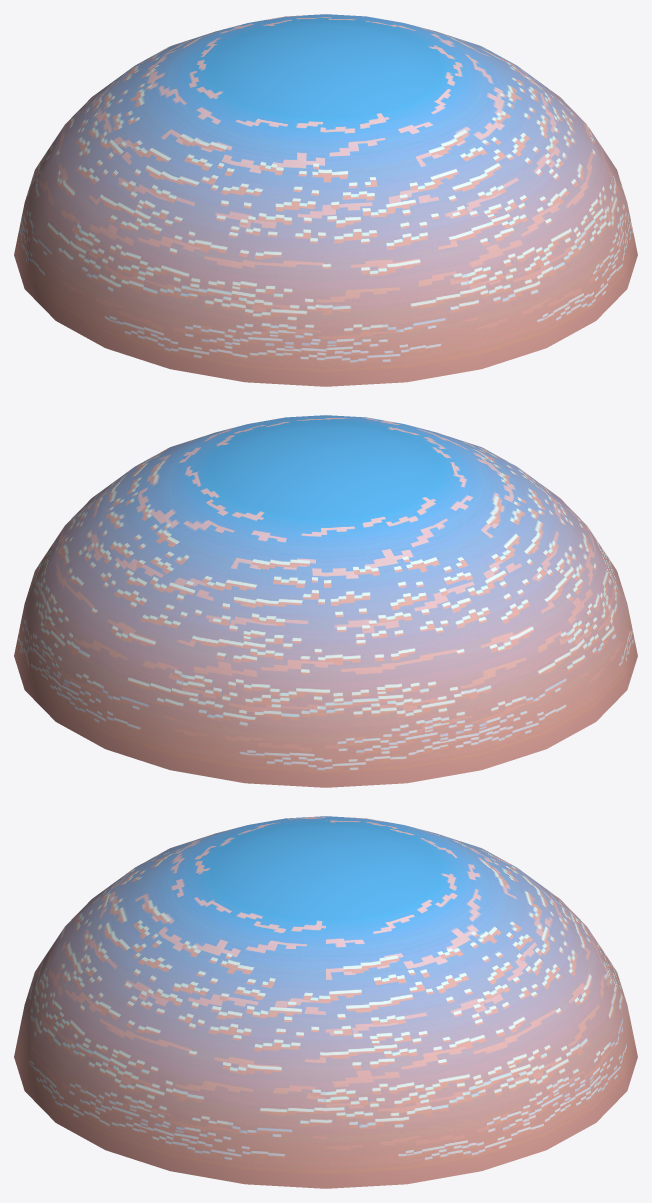
Rendered from sky_02 #1254524.fbx.
The picture shows the model from 3 angles, top to bottom: view 1: azimuth 30°, elevation 25°; view 2: azimuth 150°, elevation 25°; view 3: azimuth 270°, elevation 25°; orthographic projection.
Visible parts, largest first — view 1: sky_02; view 2: sky_02; view 3: sky_02.
Part boxes in pixels (x1,y1,x2,y2): sky_02: (14, 14, 637, 386); sky_02: (14, 415, 637, 787); sky_02: (14, 816, 637, 1188).
Bounding box in the file's own units: 2106 × 752 × 2106.
Materials: 1 (1 with a texture image).
